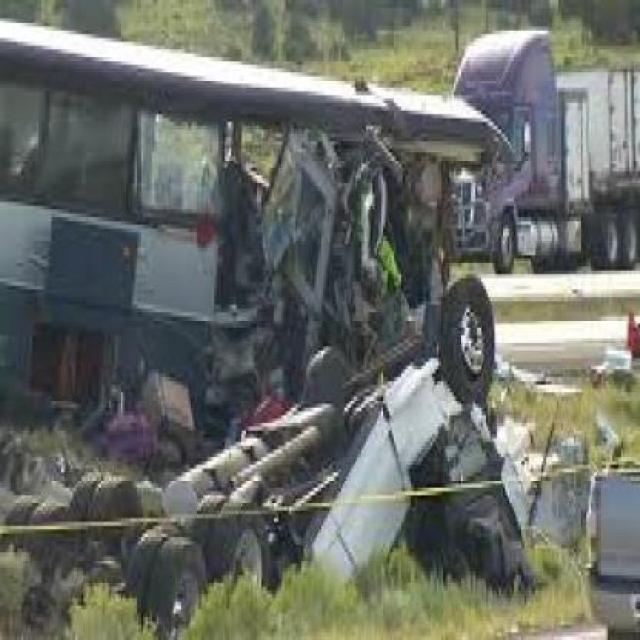accident: (14, 13, 546, 612)
